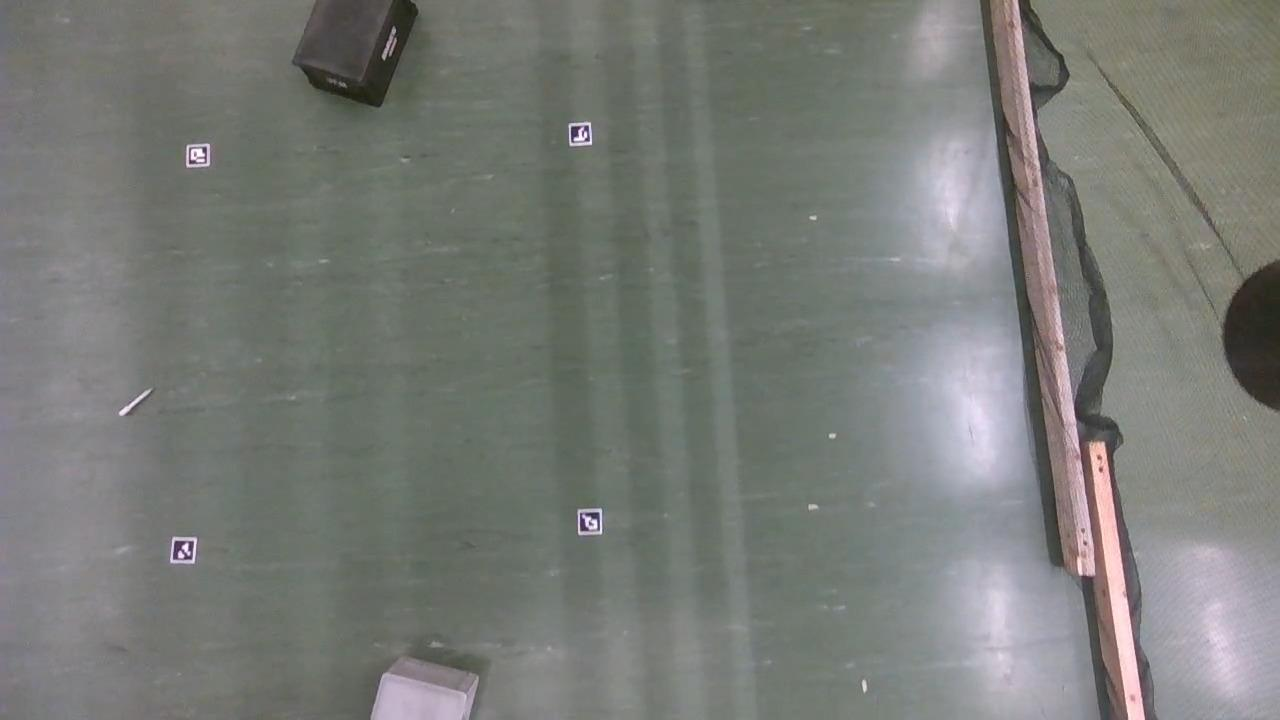probes: (118, 387, 152, 416)
rako: (291, 0, 416, 109)
